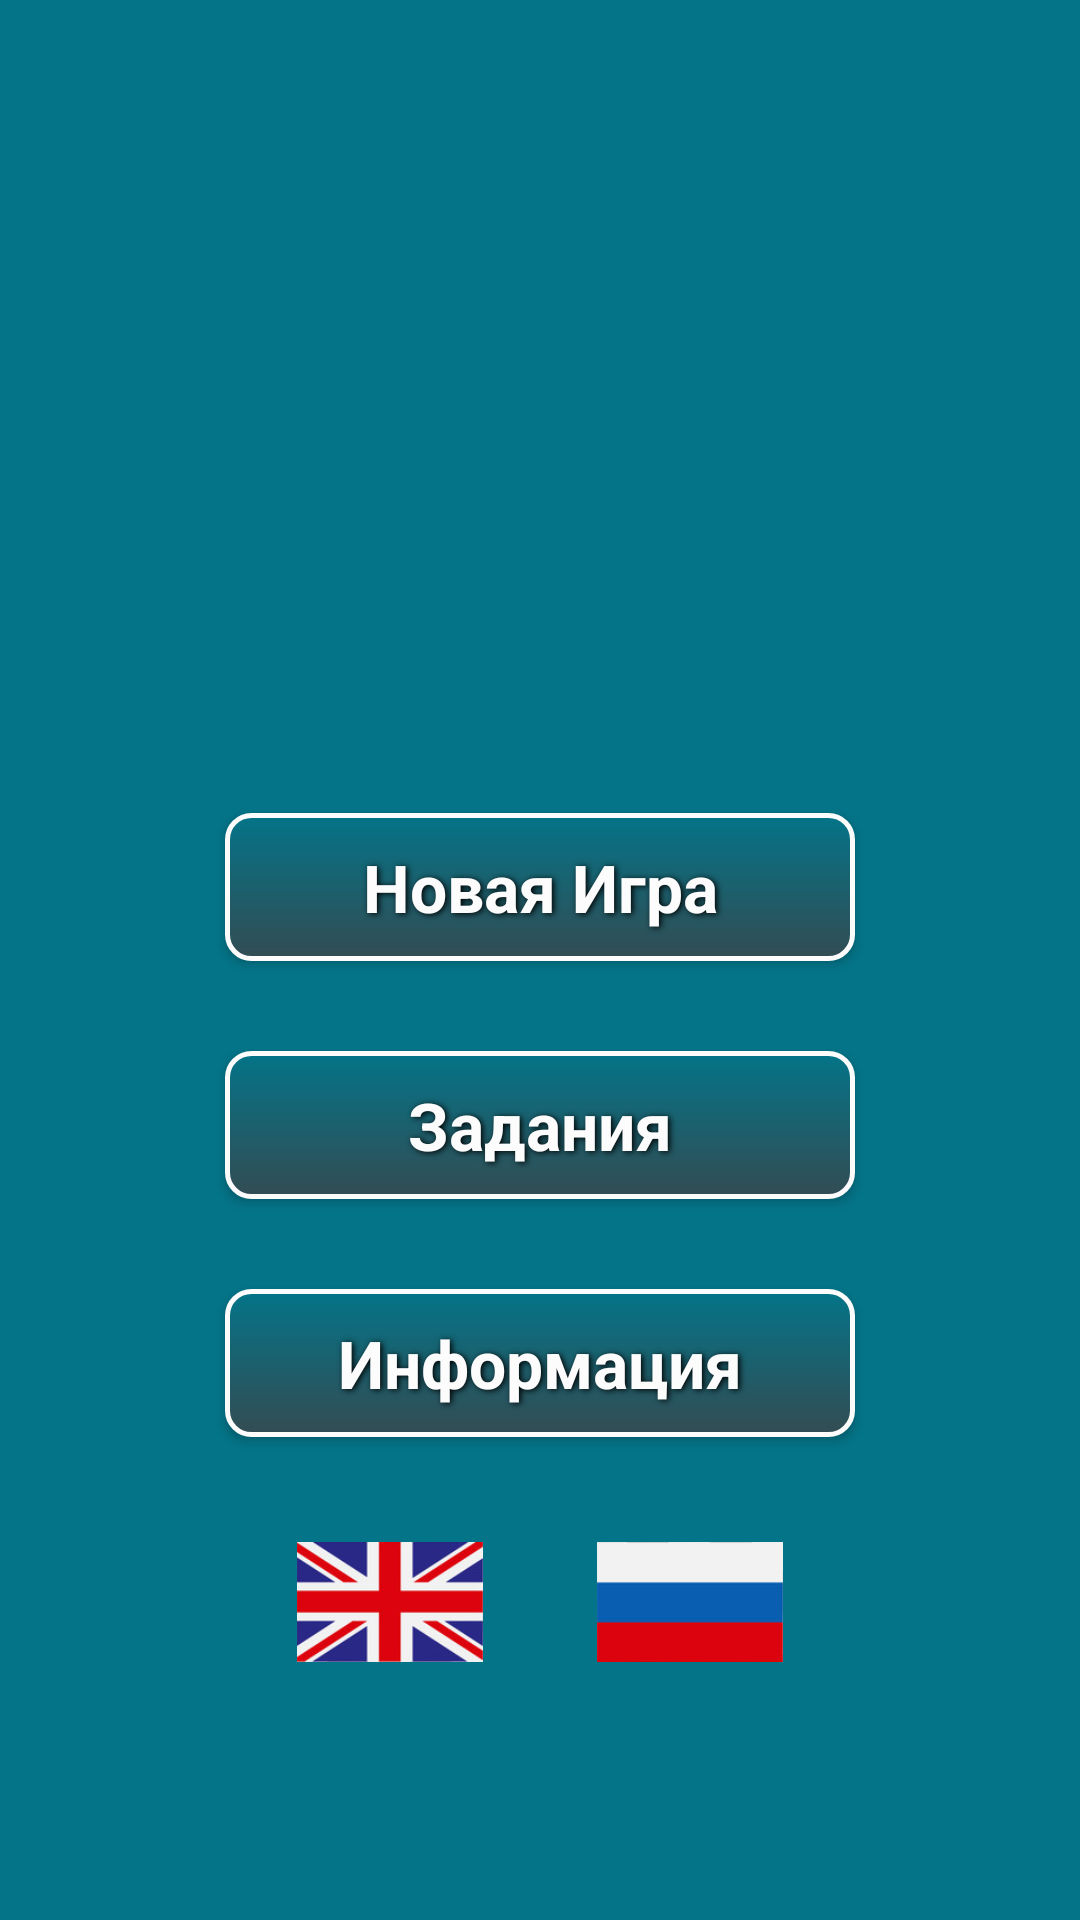

Locate icon controls on the screen. Image size 1080 x 1920, boxes as (x1, y1, x2, y2).
eng: (297, 1542, 483, 1662)
flag ru: (597, 1542, 783, 1662)
